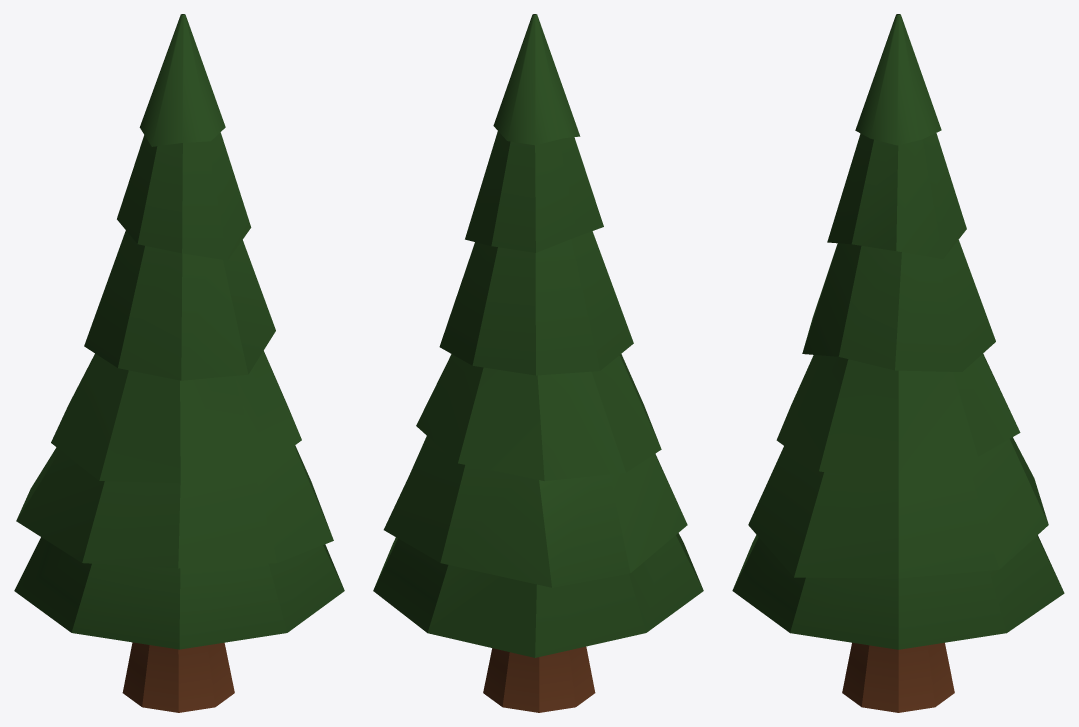
The model's file is Tree.fbx.
The picture shows the model from 3 angles, left to right: view 1: azimuth 30°, elevation 25°; view 2: azimuth 150°, elevation 25°; view 3: azimuth 270°, elevation 25°; orthographic projection.
Parts seen in each view (by area): view 1: TreeLeaves, TreeWood; view 2: TreeLeaves, TreeWood; view 3: TreeLeaves, TreeWood.
Part boxes in pixels (<box>): TreeLeaves: <box>14,14,344,649</box>; TreeWood: <box>122,642,234,712</box>; TreeLeaves: <box>373,14,703,657</box>; TreeWood: <box>483,646,595,712</box>; TreeLeaves: <box>732,14,1064,649</box>; TreeWood: <box>842,642,954,712</box>.
Size of the model in its own units: 6.45 by 14.71 by 6.55.
